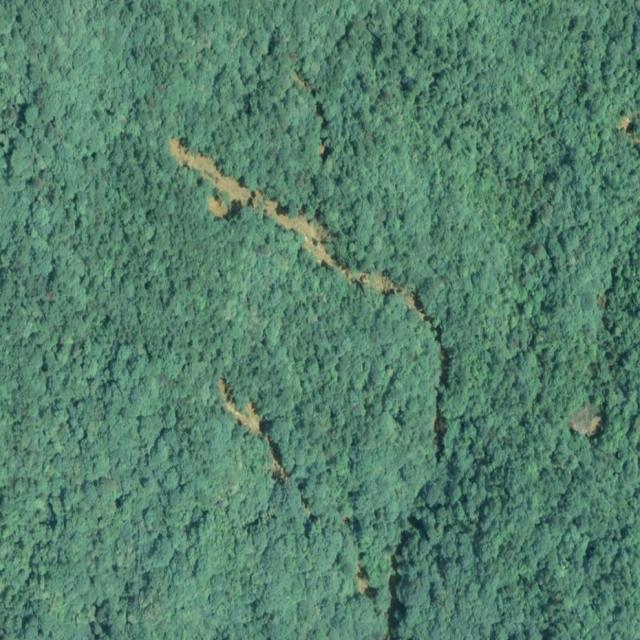landslide: (170, 138, 427, 319)
